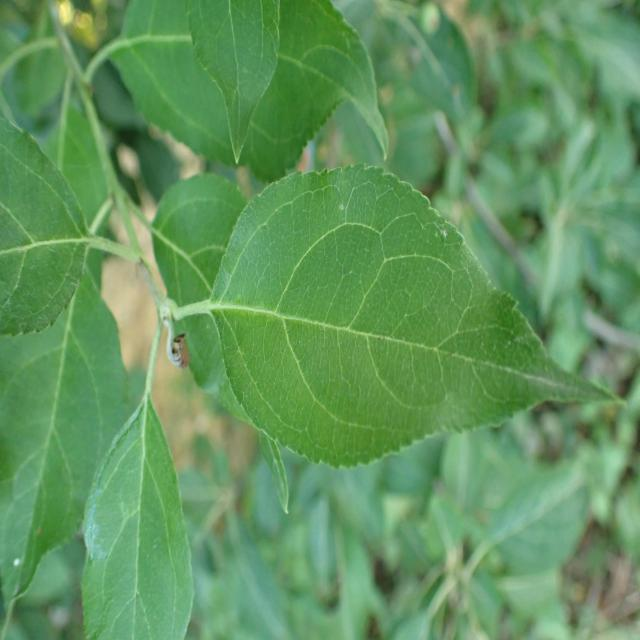frog-eye-leaf-spot: (208, 162, 622, 468)
healthy: (185, 0, 383, 181)
